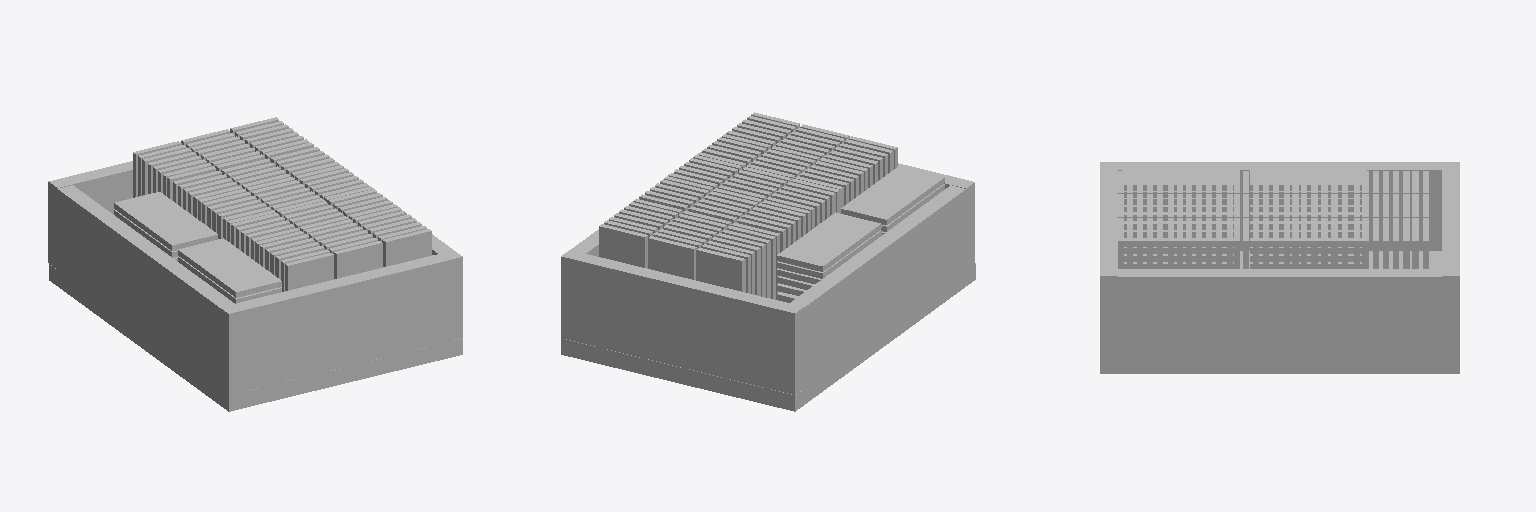
File: BarBox.obj
The picture shows the model from 3 angles: view 1: azimuth 30°, elevation 25°; view 2: azimuth 150°, elevation 25°; view 3: azimuth 270°, elevation 25°; orthographic projection.
Visible parts, largest first — view 1: Cube.104; view 2: Cube.104; view 3: Cube.104.
Part boxes in pixels (x1,y1,x2,y2): Cube.104: (48,117,462,411); Cube.104: (561,112,975,411); Cube.104: (1100,162,1459,373).
Size of the model in its own units: 0.3006 by 0.1499 by 0.4002.